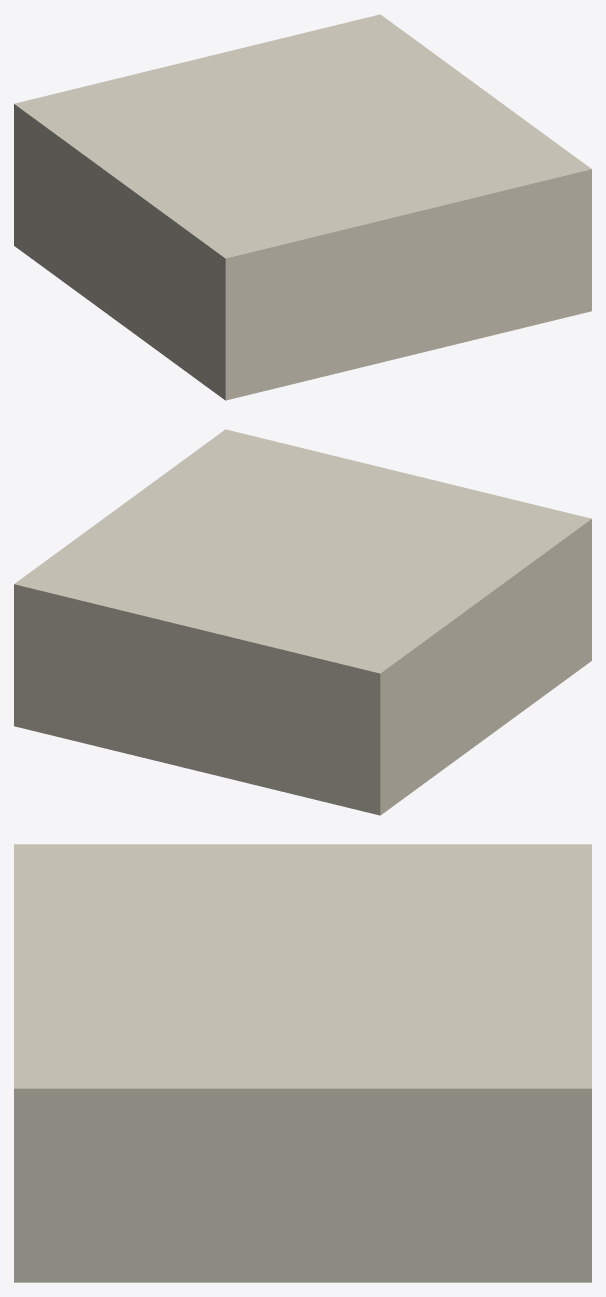
The model's file is escoteiro_canela.glb.
3 renders of one model, top to bottom at view 1: azimuth 30°, elevation 25°; view 2: azimuth 150°, elevation 25°; view 3: azimuth 270°, elevation 25°, orthographic. The views are drawn at different scales.
Parts seen in each view (by area): view 1: escoteiro_canela; view 2: escoteiro_canela; view 3: escoteiro_canela.
Part boxes in pixels (x1,y1,x2,y2): escoteiro_canela: (14, 14, 591, 400); escoteiro_canela: (14, 429, 591, 815); escoteiro_canela: (14, 844, 591, 1282).
Size of the model in its own units: 0.27 by 0.1 by 0.27.
